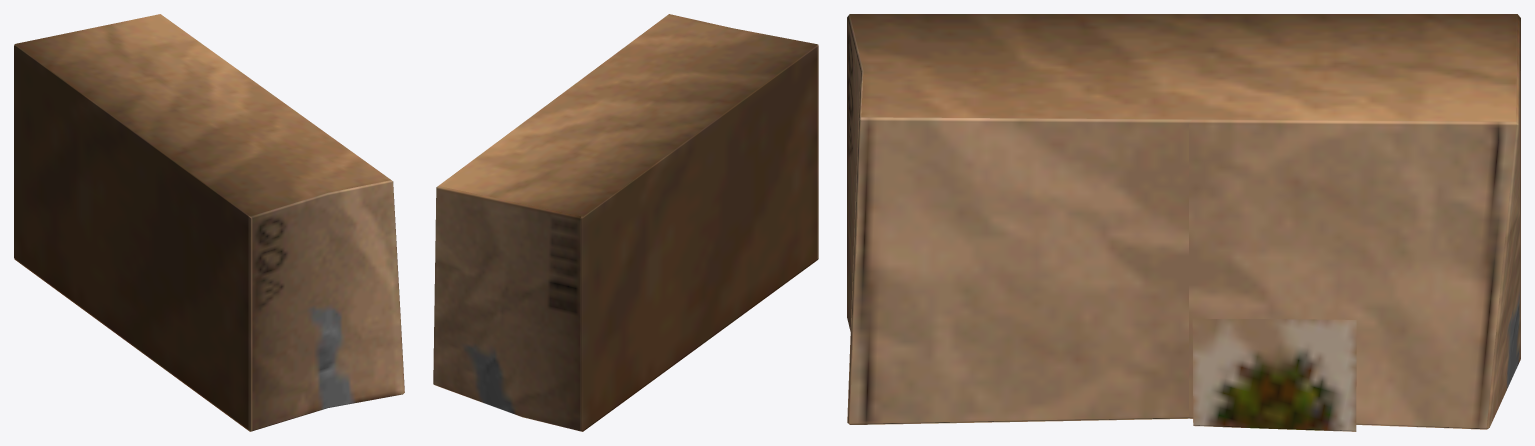
Rendered from SM_PRP_Package_A_02.fbx.
3 renders of one model, left to right at view 1: azimuth 30°, elevation 25°; view 2: azimuth 150°, elevation 25°; view 3: azimuth 270°, elevation 25°, orthographic. The views are drawn at different scales.
Visible parts, largest first — view 1: PRP_Package_A_02; view 2: PRP_Package_A_02; view 3: PRP_Package_A_02.
Boxes of the visible parts, left/top/right/bottom form: PRP_Package_A_02: left=14, top=14, right=404, bottom=431; PRP_Package_A_02: left=433, top=14, right=818, bottom=431; PRP_Package_A_02: left=847, top=14, right=1520, bottom=431.
Size of the model in its own units: 9.69 by 12.45 by 24.7.
